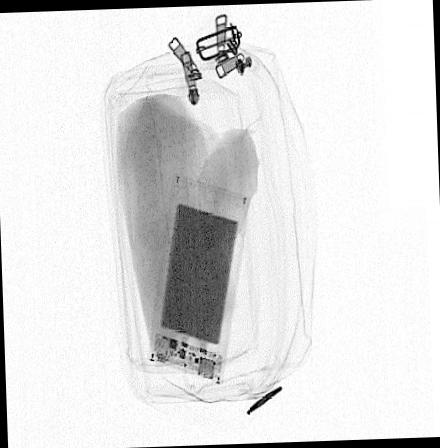Powerbank: (146, 171, 250, 384)
